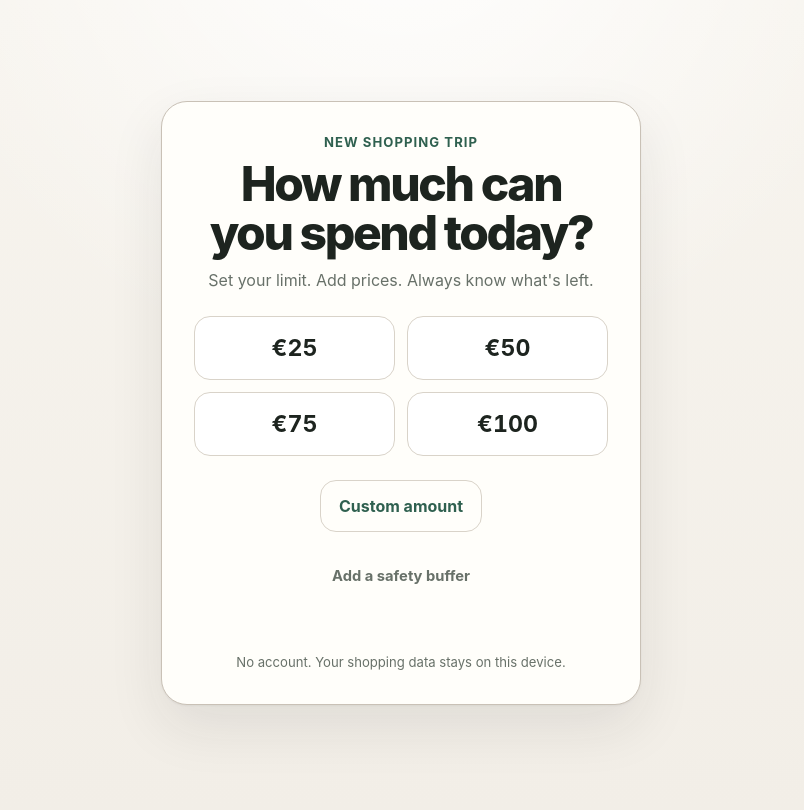
Scenario: StartTripScreen › explains invalid custom money input inline
This screenshot has width=804, height=810.
Click the button "Custom amount": click(401, 506) [320,480,482,532]
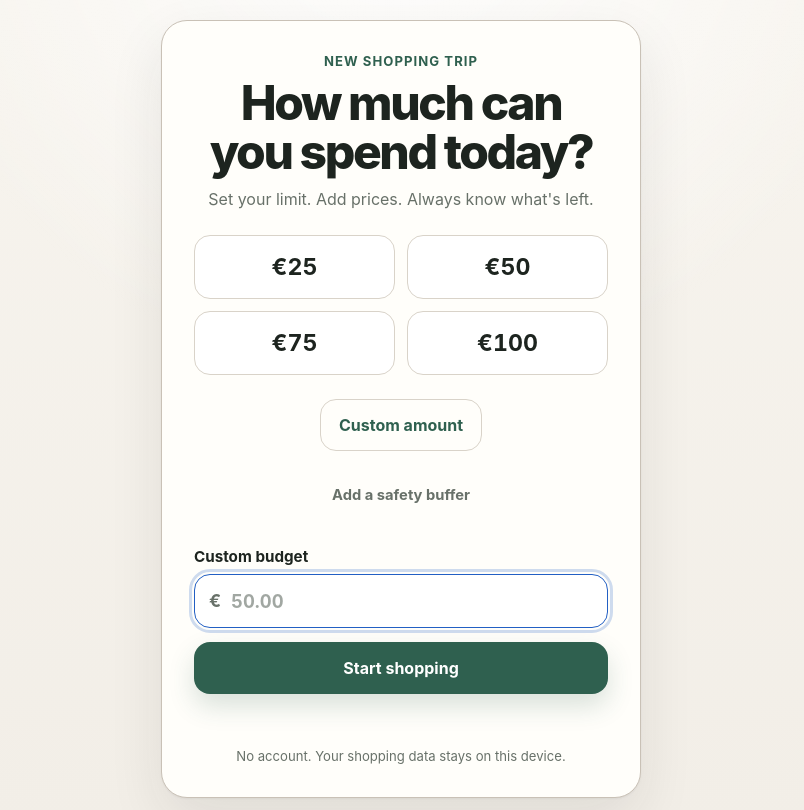
In the field labelled "Custom budget": (411, 601) [229,589,593,613], type "37.500"
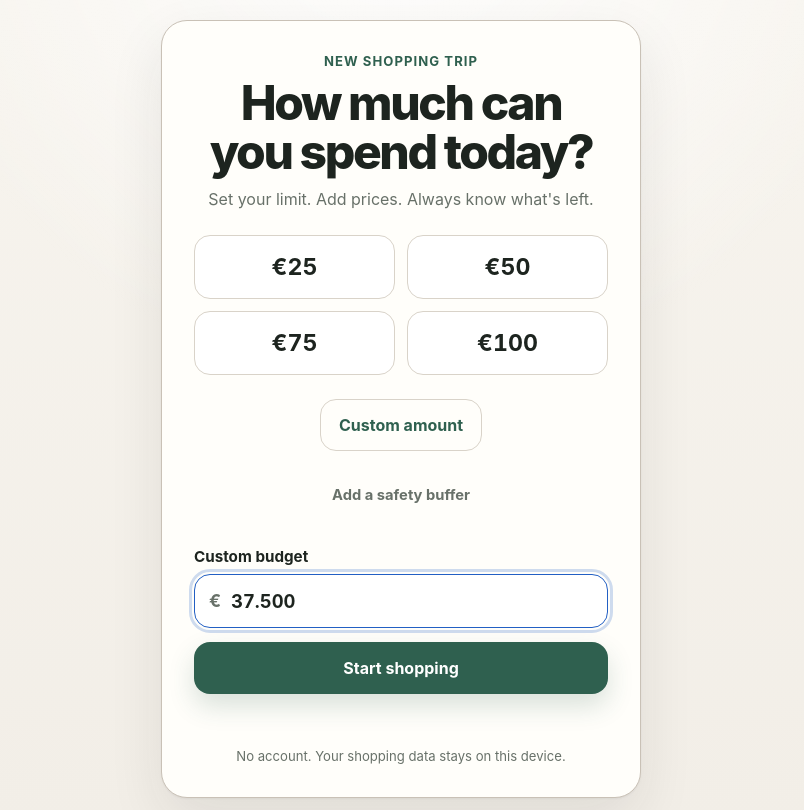
Click the button "Start shopping": click(401, 668) [194,642,608,694]
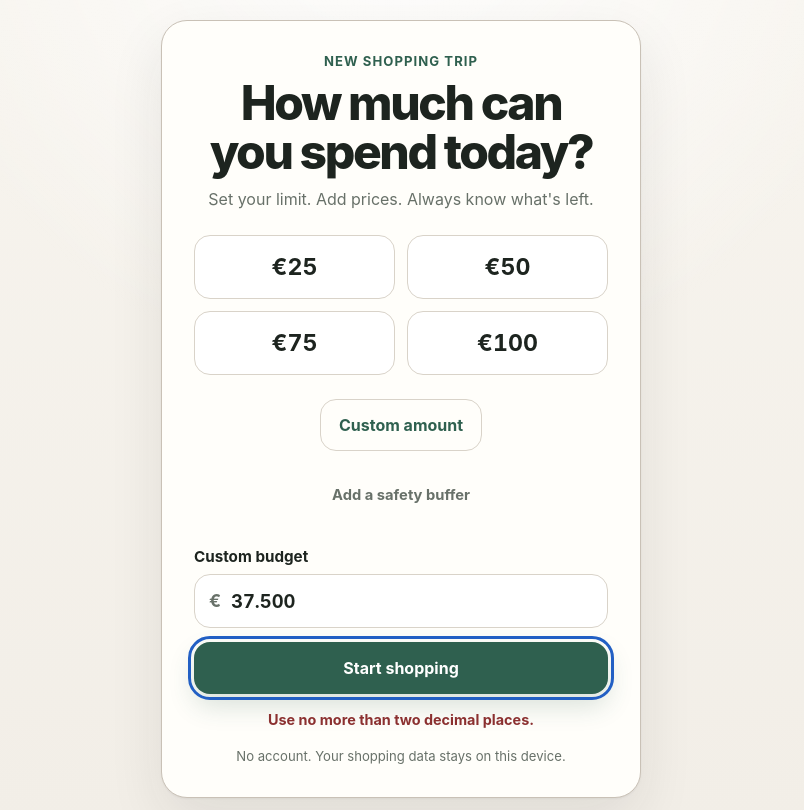
Expected: the message reads "Use no more than two decimal places.", [268,711,534,728]
